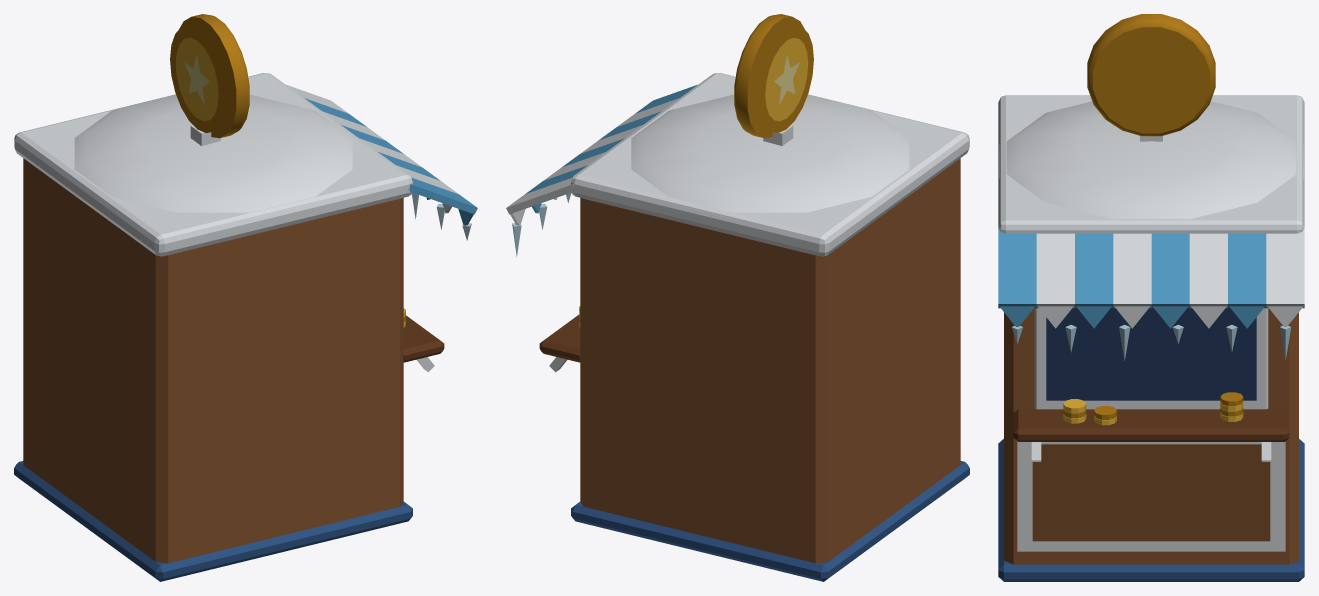
File: ice-shop.glb
3 renders of one model, left to right at view 1: azimuth 30°, elevation 25°; view 2: azimuth 150°, elevation 25°; view 3: azimuth 270°, elevation 25°, orthographic. The views are drawn at different scales.
Parts seen in each view (by area): view 1: ice-shop; view 2: ice-shop; view 3: ice-shop.
Part boxes in pixels (box(x1,y1,x2,y2)): ice-shop: box(14, 14, 477, 581); ice-shop: box(506, 14, 969, 581); ice-shop: box(998, 14, 1304, 581).
Size of the model in its own units: 2.03 by 2.89 by 1.6.
